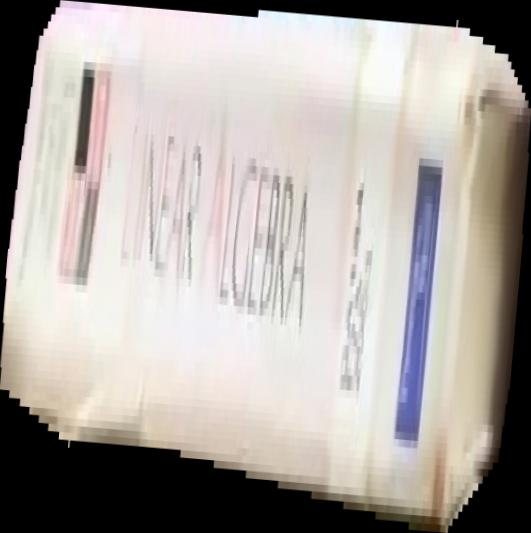flat: (1, 1, 531, 533)
